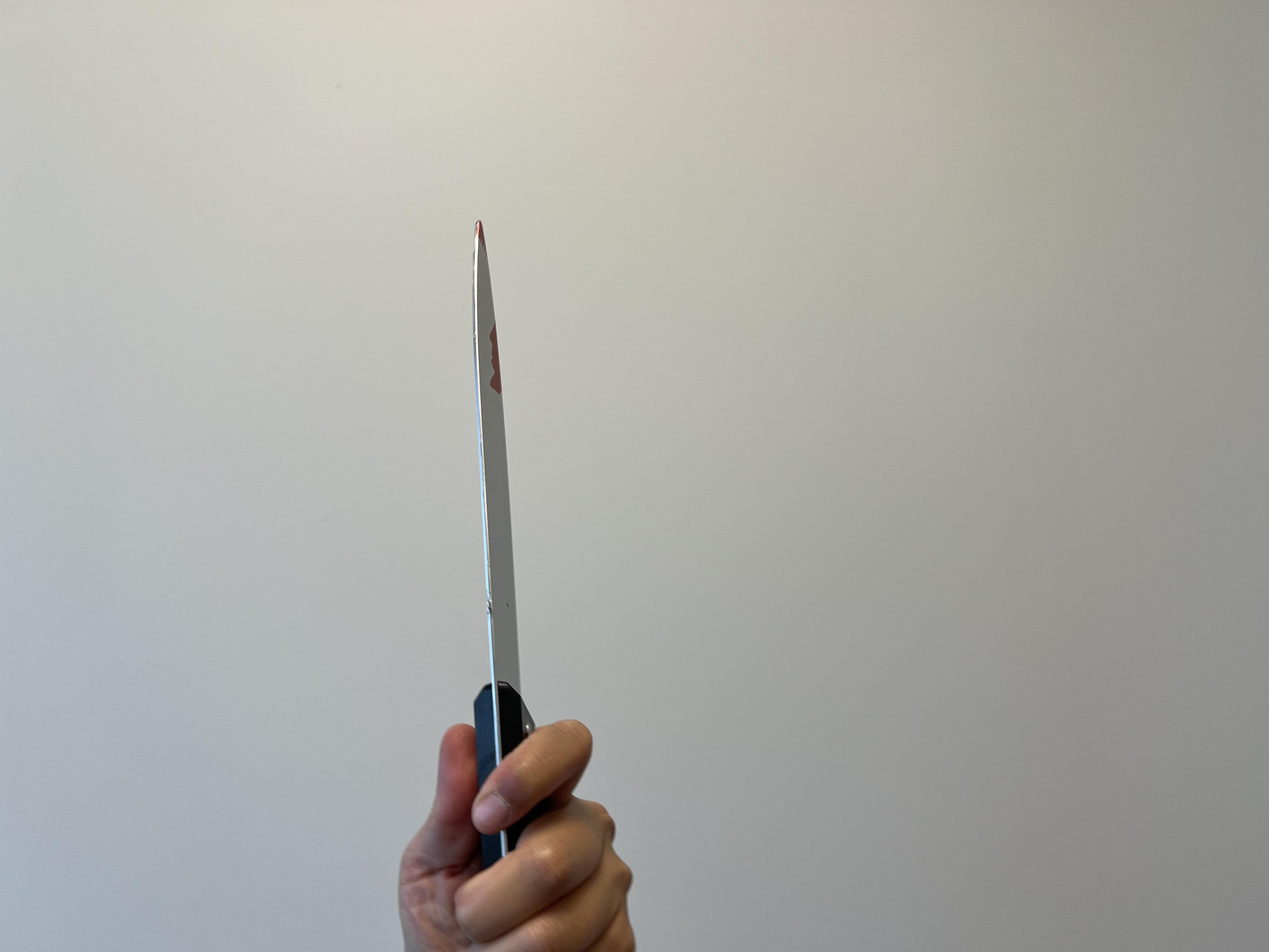Knife: (405, 718, 637, 952), (407, 718, 638, 952), (469, 222, 546, 745)
